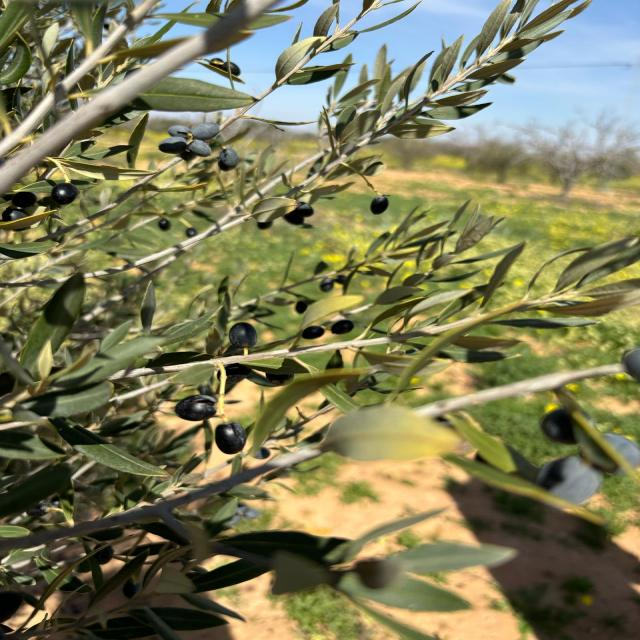Healthy: (175, 395, 216, 421), (215, 422, 247, 454), (229, 322, 257, 348), (51, 183, 78, 206), (159, 136, 187, 155), (217, 148, 239, 171), (192, 122, 219, 140), (370, 196, 390, 215), (331, 319, 354, 334), (302, 326, 325, 339)
